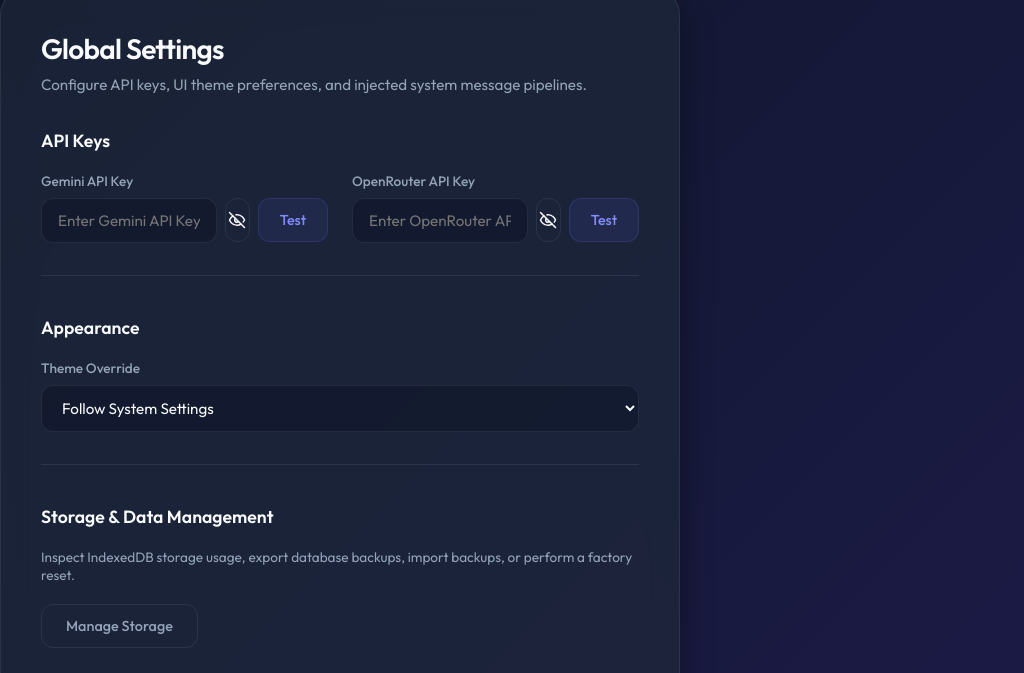
Test: StorageManagementModal Integration Tests › handles bulk deletion of selected threads
Click the button with test id "manage-storage-btn". click: (119, 626)
box: [41,604,198,648]
(page scrolled)
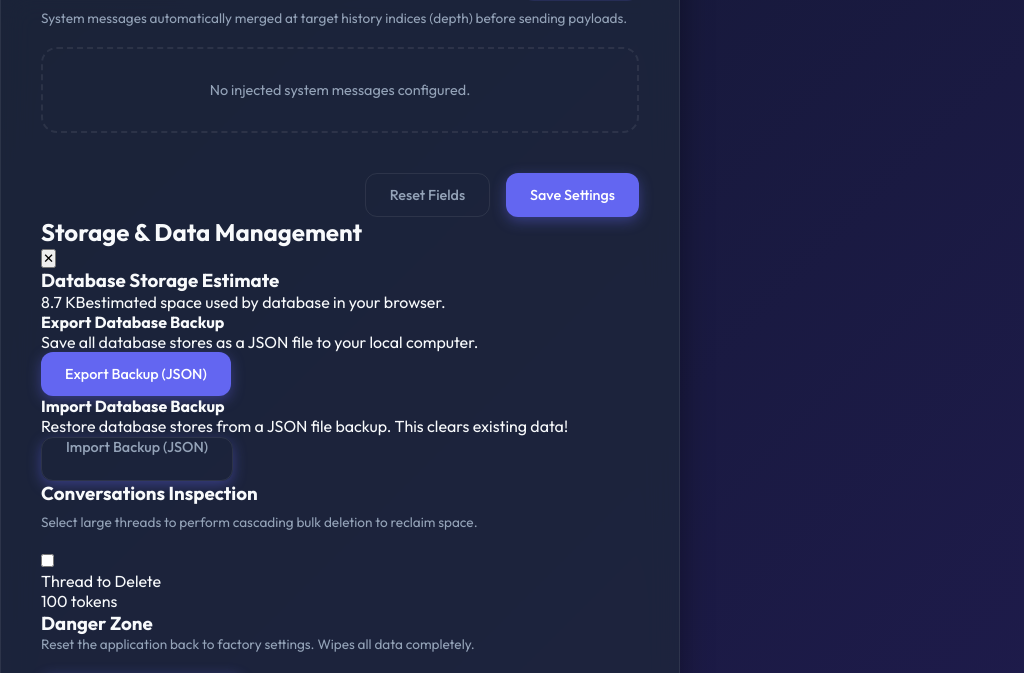
expect the text "Thread to Delete" is shown: met, box [41,571,161,591]
Note: Row selection (clicking row toggles checkbox)
Click the element with test id "thread-row-thread-del-1". click: (101, 582)
box: [41,554,161,611]
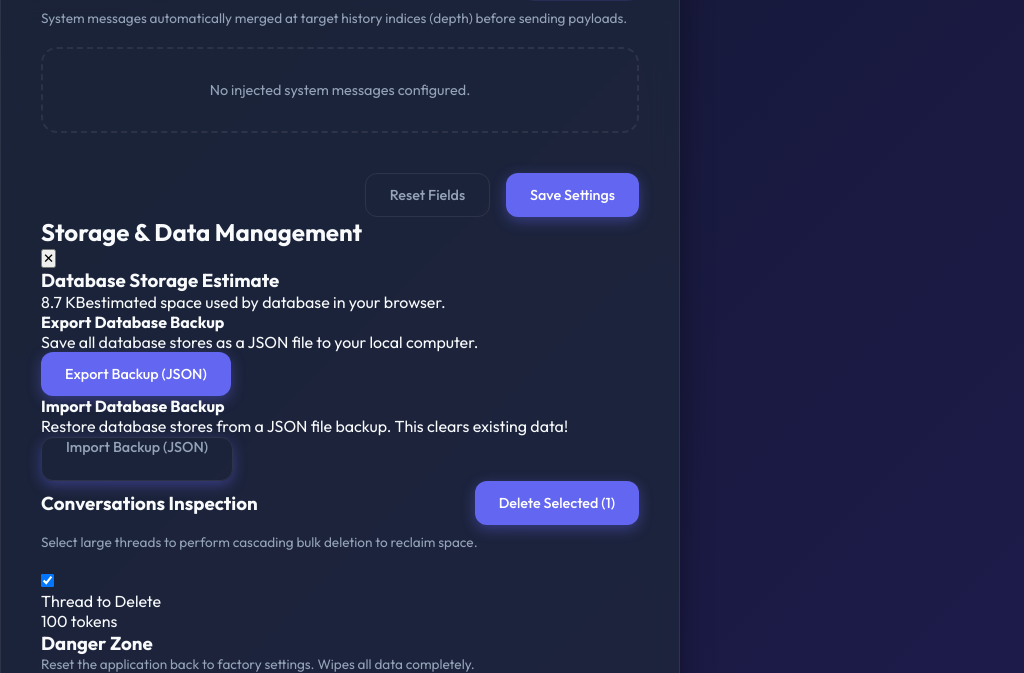
expect the button with test id "bulk-delete-btn" reads "Delete Selected (1)": met
Click the button with test id "bulk-delete-btn". click: (557, 503)
box: [475,481,639,525]
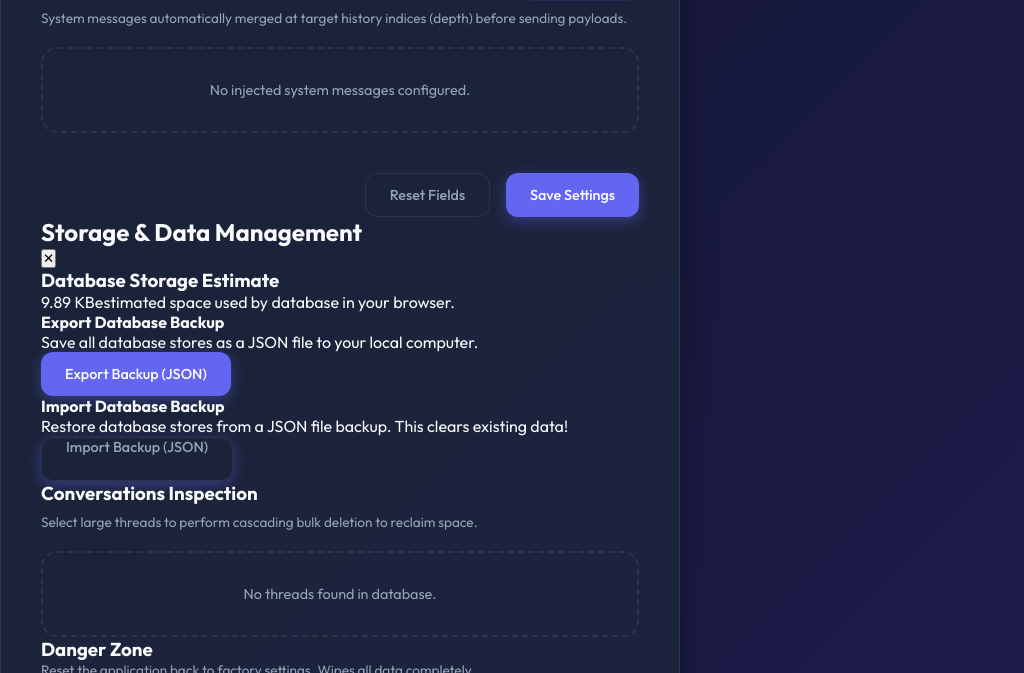
expect the text "Thread to Delete" is gone: met
